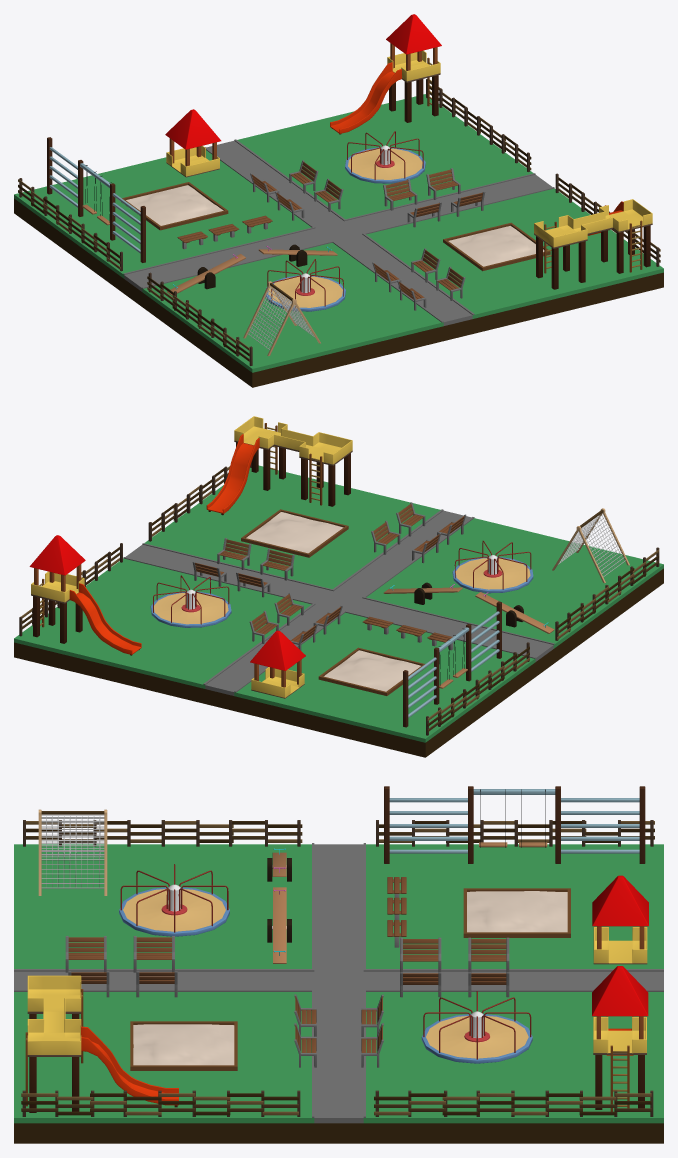
File: childrens_park.glb
3 views of the same model, one above another, from view 1: azimuth 30°, elevation 25°; view 2: azimuth 150°, elevation 25°; view 3: azimuth 270°, elevation 25° (orthographic). The views are drawn at different scales.
Visible parts, largest first — view 1: Cubo.106, Cubo.222, Cubo.111, Cubo.380, Cubo.327, object 3, Cubo.109, Cubo.354, object 1, Plano.003, Cubo.116, Cubo.379 (+17 smaller); view 2: Cubo.106, Cubo.111, Cubo.222, Cubo.380, Cubo.327, object 1, object 3, Cubo.109, Cubo.354, Plano.002, Plano.003, Cubo.116 (+18 smaller); view 3: Cubo.106, Cubo.109, Cubo.222, Cubo.380, Cubo.111, Cubo.327, object 3, object 1, Cubo.116, Cubo.183, Cubo.379, Cilindro.024 (+19 smaller).
Boxes of the visible parts, x1,y1,x2,y2 form: Cubo.106: (14,94,663,387); Cubo.222: (18,178,252,365); Cubo.111: (443,222,550,271); Cubo.380: (121,182,228,230); Cubo.327: (534,199,652,248); object 3: (345,145,425,183); Cubo.109: (426,79,660,266); Cubo.354: (536,225,650,289); object 1: (266,273,345,311); Plano.003: (330,62,401,133); Cubo.116: (49,147,140,253); Cubo.379: (386,14,441,54); Cubo.106: (14,465,663,757); Cubo.111: (241,509,348,557); Cubo.222: (426,547,659,735); Cubo.380: (318,647,424,695); Cubo.327: (234,416,352,465); object 1: (452,555,533,593); object 3: (150,589,231,627); Cubo.109: (19,463,251,636); Cubo.354: (236,442,350,506); Plano.002: (206,434,259,513); Plano.003: (69,583,141,654); Cubo.116: (408,611,499,717); Cubo.106: (14,843,663,1143); Cubo.109: (21,1090,653,1116); Cubo.222: (23,820,654,846); Cubo.380: (463,888,570,937); Cubo.111: (130,1021,237,1070); Cubo.327: (27,975,81,1056); object 3: (421,1011,532,1063); object 1: (119,884,229,936); Cubo.116: (389,789,639,853); Cubo.183: (592,875,648,926); Cubo.379: (592,966,648,1016); Cilindro.024: (41,817,104,888).
Bounding box in the file's own units: 45.58 × 12.31 × 45.75.
